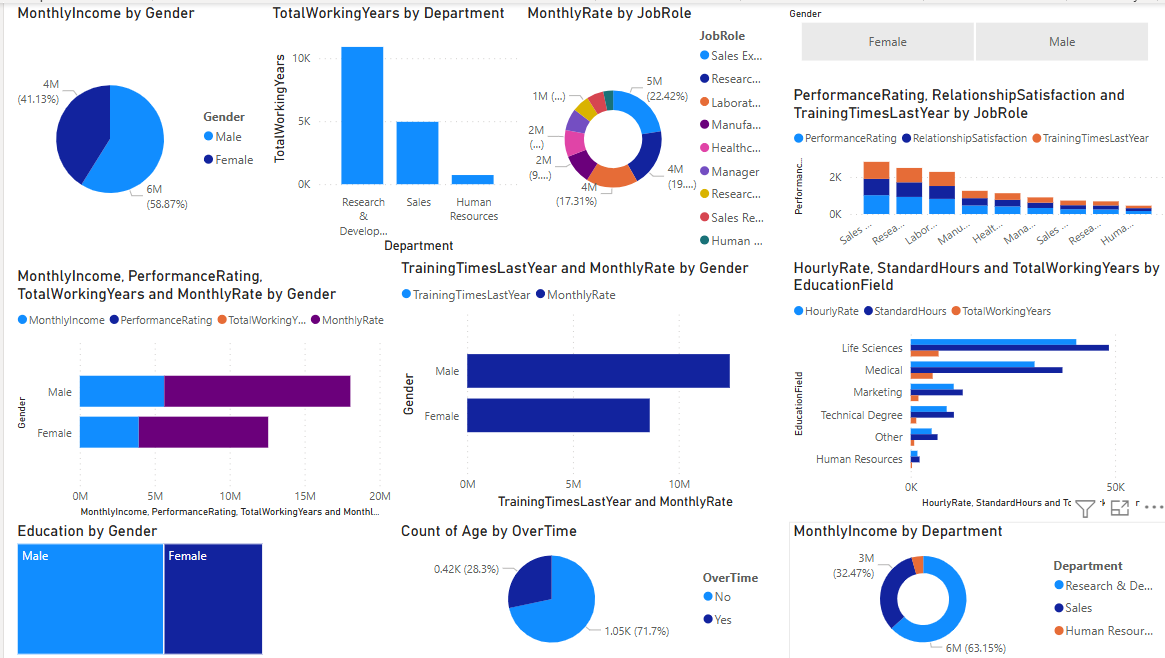

Layout of this report page (visuals, bound fields, positions):
{"tool":"powerbi","page":{"name":"Page 1","canvas":[1280,720],"ordinal":0},"visuals":[{"type":"pieChart","fields":{"Category":["HR-Employee-Attrition.Gender"],"Y":["Sum(HR-Employee-Attrition.MonthlyIncome)"]},"box":[10,0,280,280],"z":0},{"type":"columnChart","fields":{"Category":["HR-Employee-Attrition.Department"],"Y":["Sum(HR-Employee-Attrition.TotalWorkingYears)"]},"box":[289.5,0,279.9,279.9],"z":1000},{"type":"donutChart","fields":{"Category":["HR-Employee-Attrition.JobRole"],"Y":["Sum(HR-Employee-Attrition.MonthlyRate)"]},"box":[569.3,0,279.9,279.9],"z":2000},{"type":"barChart","fields":{"Category":["HR-Employee-Attrition.Gender"],"Y":["Sum(HR-Employee-Attrition.MonthlyIncome)","Sum(HR-Employee-Attrition.PerformanceRating)","Sum(HR-Employee-Attrition.TotalWorkingYears)","Sum(HR-Employee-Attrition.MonthlyRate)"]},"box":[9.6,289.5,419.8,279.9],"z":3000},{"type":"barChart","fields":{"Category":["HR-Employee-Attrition.Gender"],"Y":["Sum(HR-Employee-Attrition.TrainingTimesLastYear)","Sum(HR-Employee-Attrition.MonthlyRate)"]},"box":[430.8,279.9,419.8,279.9],"z":4000},{"type":"columnChart","fields":{"Y":["Sum(HR-Employee-Attrition.PerformanceRating)","Sum(HR-Employee-Attrition.RelationshipSatisfaction)","Sum(HR-Employee-Attrition.TrainingTimesLastYear)"],"Category":["HR-Employee-Attrition.JobRole"]},"box":[861.6,90.5,418.4,189.3],"z":5000},{"type":"treemap","fields":{"Group":["HR-Employee-Attrition.Gender"],"Values":["Sum(HR-Employee-Attrition.Education)"]},"box":[9.6,569.3,279.9,150.9],"z":6000},{"type":"clusteredBarChart","fields":{"Category":["HR-Employee-Attrition.EducationField"],"Y":["Sum(HR-Employee-Attrition.HourlyRate)","Sum(HR-Employee-Attrition.StandardHours)","Sum(HR-Employee-Attrition.TotalWorkingYears)"]},"box":[862,280,418,280],"z":7000},{"type":"pieChart","fields":{"Category":["HR-Employee-Attrition.OverTime"],"Y":["CountNonNull(HR-Employee-Attrition.Age)"]},"box":[431,569,420,151],"z":8000},{"type":"donutChart","fields":{"Y":["Sum(HR-Employee-Attrition.MonthlyIncome)"],"Category":["HR-Employee-Attrition.Department"]},"box":[862,569,418,151],"z":9000},{"type":"slicer","fields":{"Values":["HR-Employee-Attrition.Gender"]},"box":[849.2,0,430.8,70],"z":9001}]}

Visuals, with their boxes in screenshot pixels (x1, y1, x2, y2), scaled from the page's 1280x720 canvas onto the 1165x658 screenshot:
pieChart - HR-Employee-Attrition.Gender x Sum(HR-Employee-Attrition.MonthlyIncome): 9,0,264,256
columnChart - HR-Employee-Attrition.Department x Sum(HR-Employee-Attrition.TotalWorkingYears): 263,0,518,256
donutChart - HR-Employee-Attrition.JobRole x Sum(HR-Employee-Attrition.MonthlyRate): 518,0,773,256
barChart - HR-Employee-Attrition.Gender x Sum(HR-Employee-Attrition.MonthlyIncome): 9,265,391,520
barChart - HR-Employee-Attrition.Gender x Sum(HR-Employee-Attrition.TrainingTimesLastYear): 392,256,774,512
columnChart - Sum(HR-Employee-Attrition.PerformanceRating) x Sum(HR-Employee-Attrition.RelationshipSatisfaction): 784,83,1164,256
treemap - HR-Employee-Attrition.Gender x Sum(HR-Employee-Attrition.Education): 9,520,263,657
clusteredBarChart - HR-Employee-Attrition.EducationField x Sum(HR-Employee-Attrition.HourlyRate): 785,256,1164,512
pieChart - HR-Employee-Attrition.OverTime x CountNonNull(HR-Employee-Attrition.Age): 392,520,775,657
donutChart - Sum(HR-Employee-Attrition.MonthlyIncome) x HR-Employee-Attrition.Department: 785,520,1164,657
slicer - HR-Employee-Attrition.Gender: 773,0,1164,64
